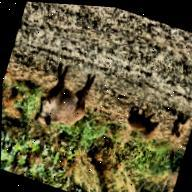boar: (34, 61, 105, 143), (109, 98, 165, 149), (163, 103, 192, 148)
